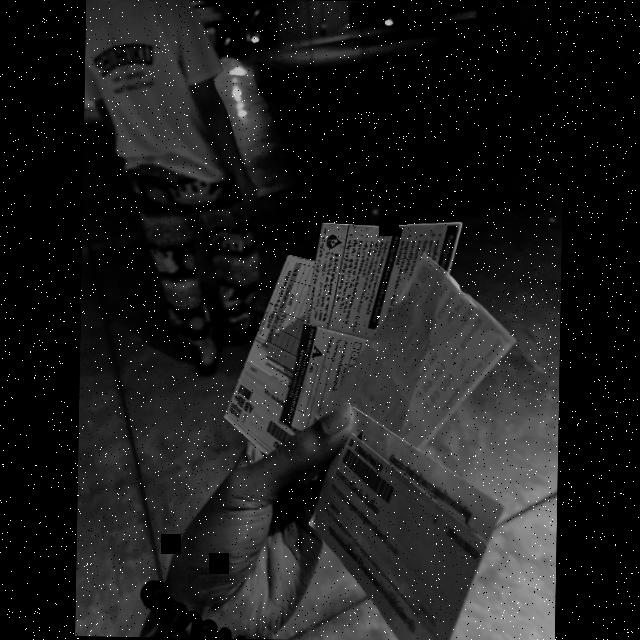scrap_paper: (294, 407, 513, 640), (272, 204, 476, 433), (318, 252, 522, 460), (228, 248, 362, 462)
